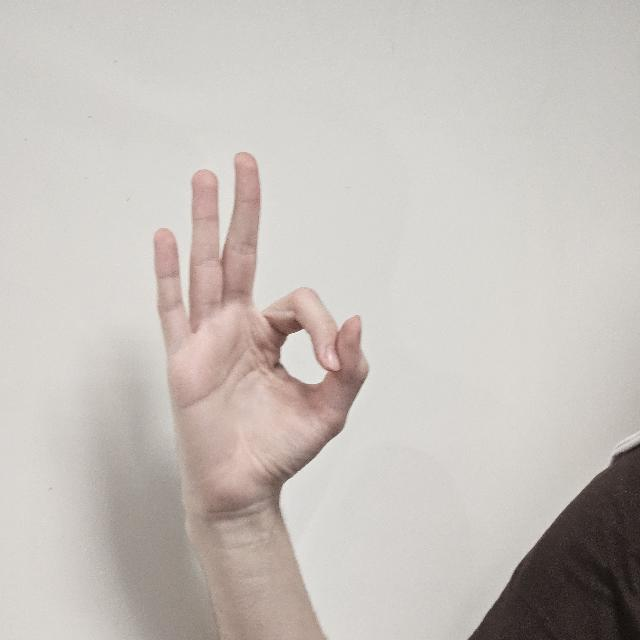Bolinha: (150, 142, 368, 506)
